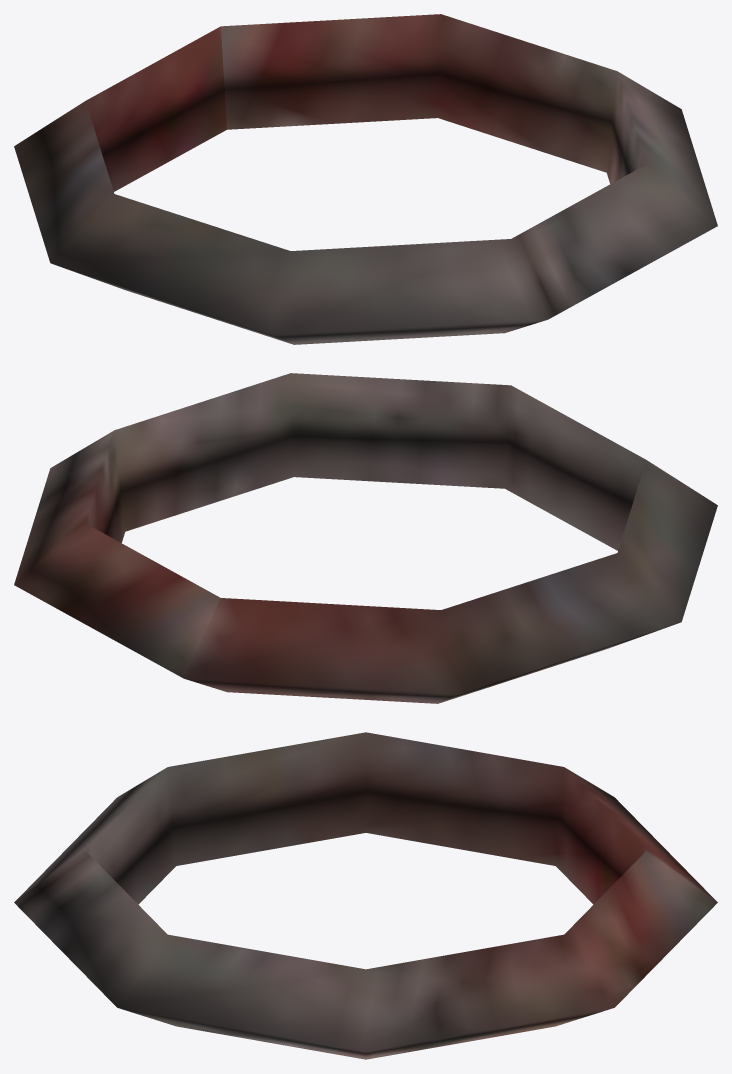
The model's file is MetalCuff.FBX.
3 views of the same model, one above another, from view 1: azimuth 30°, elevation 25°; view 2: azimuth 150°, elevation 25°; view 3: azimuth 270°, elevation 25° (orthographic). The views are drawn at different scales.
Parts seen in each view (by area): view 1: MetalCuff; view 2: MetalCuff; view 3: MetalCuff.
Boxes of the visible parts, x1=… form: MetalCuff: x1=14, y1=14, x2=717, y2=344; MetalCuff: x1=14, y1=373, x2=717, y2=703; MetalCuff: x1=14, y1=732, x2=717, y2=1059.
Size of the model in its own units: 17.17 by 2.57 by 17.17.
